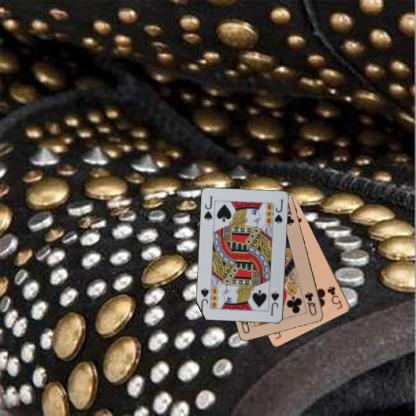5c: (324, 284, 344, 311)
Js: (268, 289, 281, 316), (202, 193, 214, 222)
Qc: (302, 289, 318, 316)
